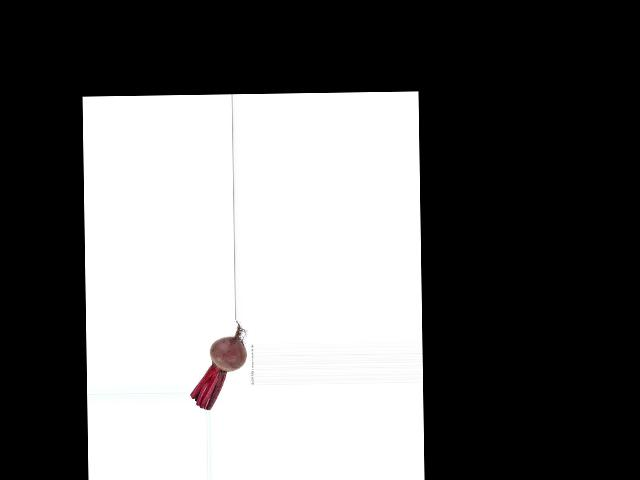beet: (189, 320, 247, 410)
